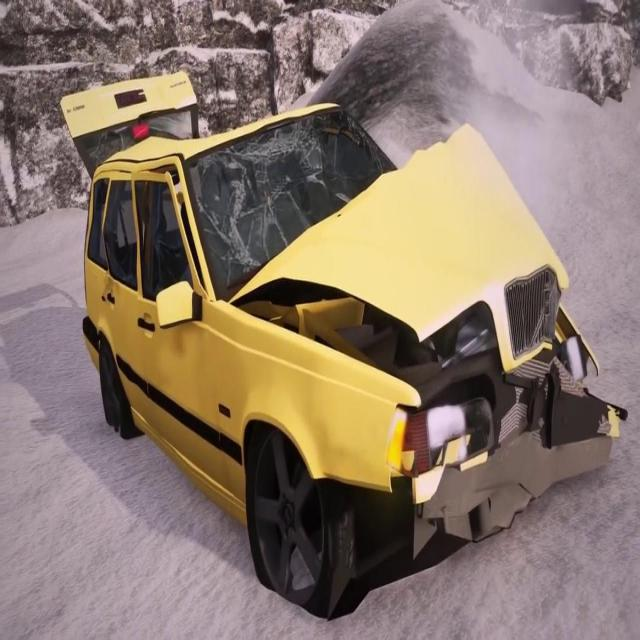accident: (59, 64, 628, 625)
